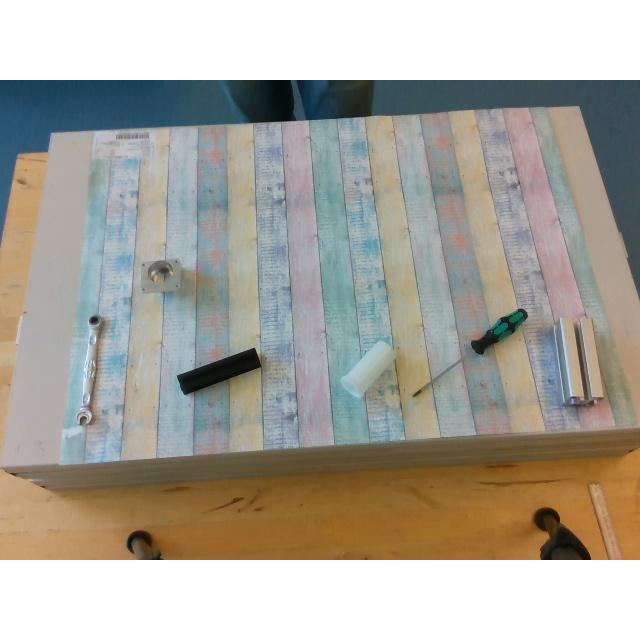F20_20_B: (177, 348, 259, 392)
S40_40_G: (554, 316, 602, 404)
Screwdriver: (412, 309, 528, 395)
Spacer: (341, 341, 395, 393)
Wrench: (74, 315, 102, 423)
